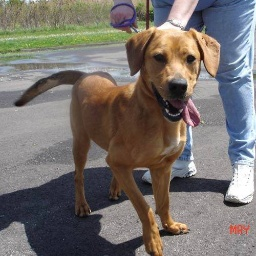dog: (58, 18, 224, 250)
